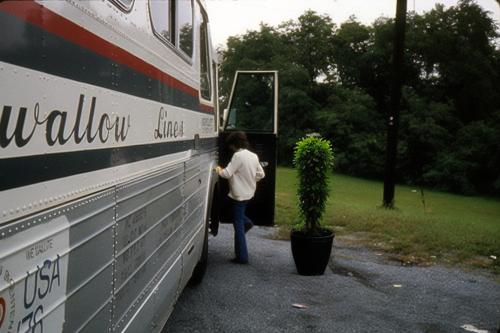bus: (3, 1, 278, 330)
person: (217, 132, 268, 266)
person/foot: (231, 259, 251, 264), (245, 223, 252, 232)
person/head: (228, 131, 245, 153)
pottedplant: (291, 135, 333, 275)
